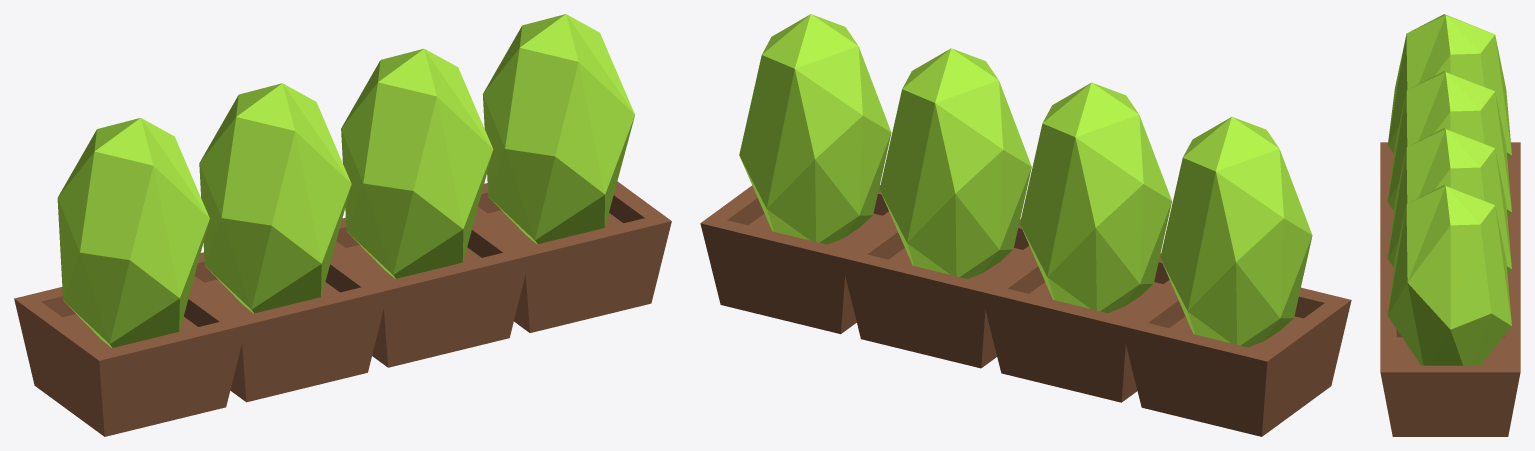
Rendered from Planet.fbx.
3 renders of one model, left to right at view 1: azimuth 30°, elevation 25°; view 2: azimuth 150°, elevation 25°; view 3: azimuth 270°, elevation 25°, orthographic. The views are drawn at different scales.
Visible parts, largest first — view 1: Natures_Pot_Bush_big__29_.006; view 2: Natures_Pot_Bush_big__29_.006; view 3: Natures_Pot_Bush_big__29_.006.
Boxes of the visible parts, x1=… form: Natures_Pot_Bush_big__29_.006: x1=14, y1=14, x2=671, y2=436; Natures_Pot_Bush_big__29_.006: x1=700, y1=14, x2=1351, y2=436; Natures_Pot_Bush_big__29_.006: x1=1380, y1=14, x2=1520, y2=436.
Size of the model in its own units: 148 by 69.06 by 38.2.
1 material, 1 textured.
